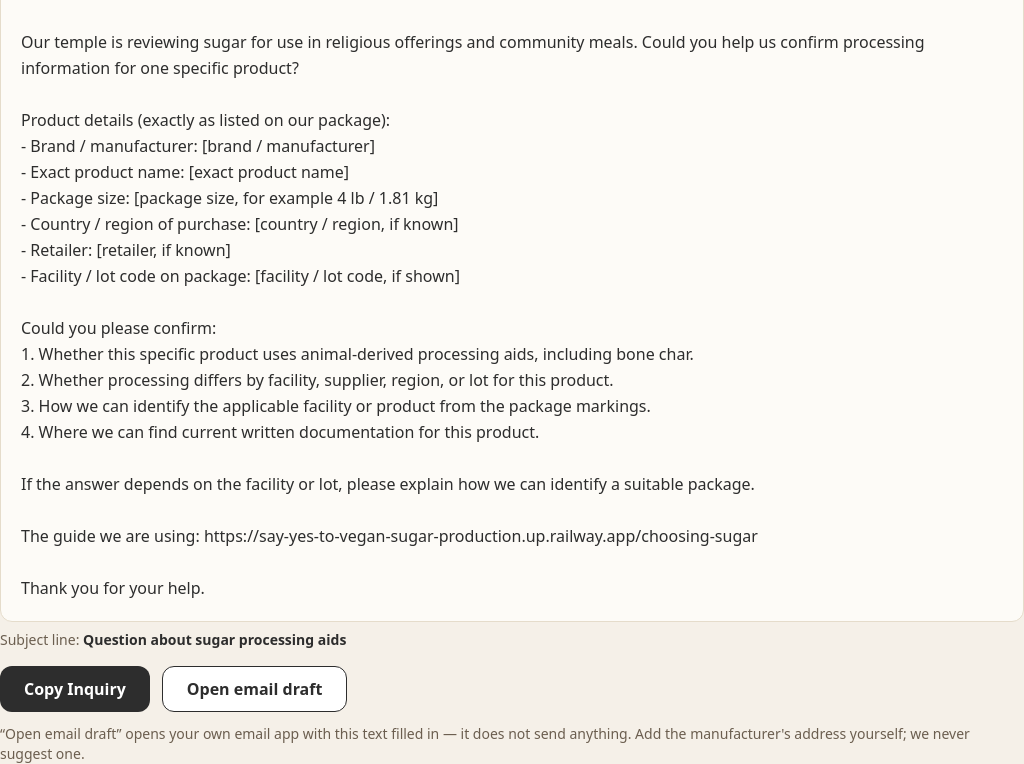
Scenario: inquiry builder › shows a manual-copy fallback when clipboard fails
This screenshot has width=1024, height=764.
(page scrolled)
Click the button "Copy Inquiry": (75, 688) [0,666,150,712]
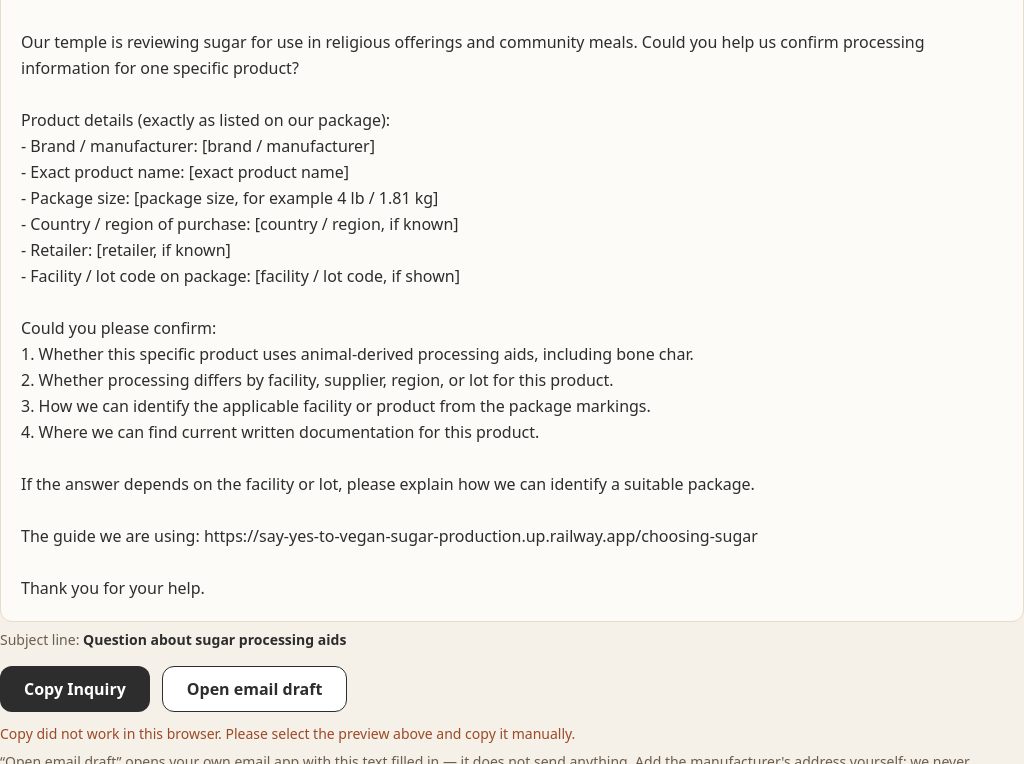
Expected: the text "select the preview above and copy it manually" is shown, [0,724,575,742]
